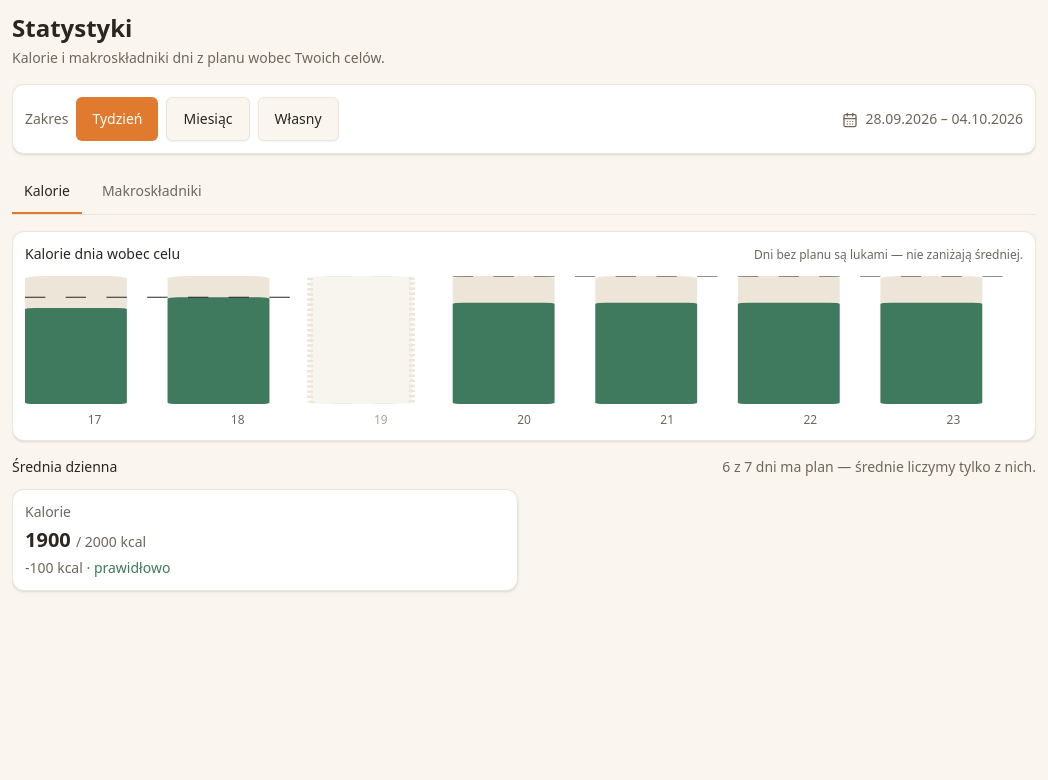
Test: StatystykiPage › zakładka makro pokazuje trzy kafelki i legendę składników
This screenshot has width=1048, height=780.
Click the tab with test id "stats-tab-macros".
click(152, 192)  # box [90, 170, 214, 214]
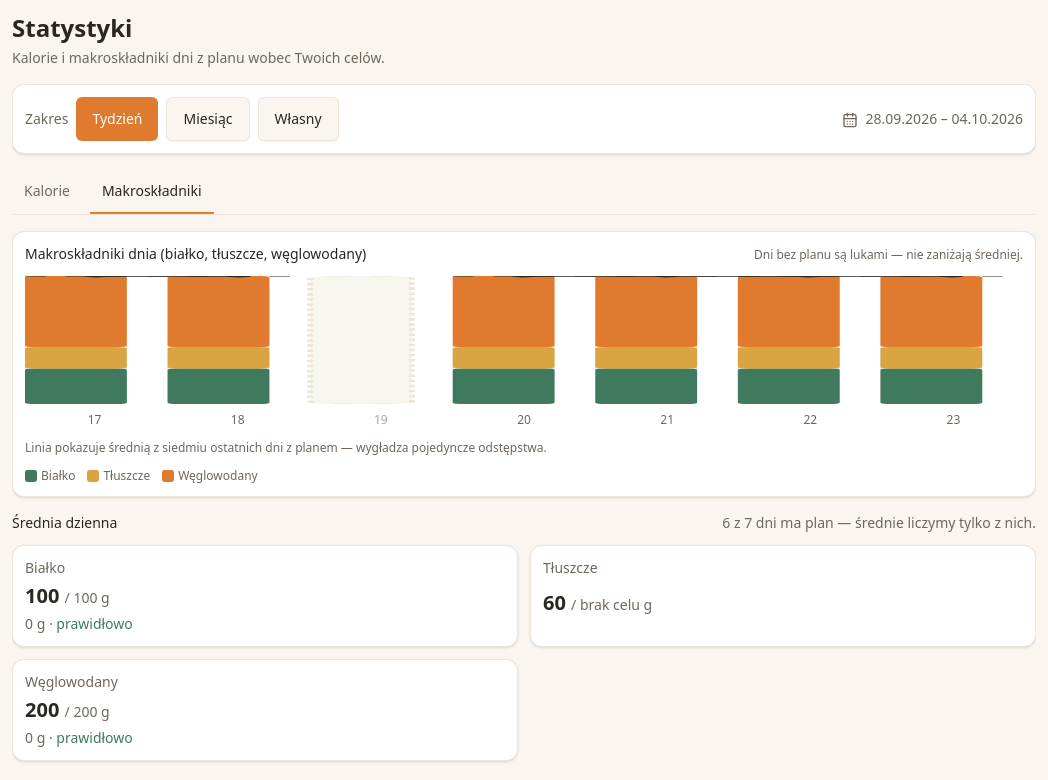
Now the list item with test id "stats-tile-protein_g" is shown, box [12, 545, 518, 647]
Now the list item with test id "stats-tile-fat_g" is shown, box [530, 545, 1036, 647]
Now the list item with test id "stats-tile-carbs_g" is shown, box [12, 659, 518, 761]
